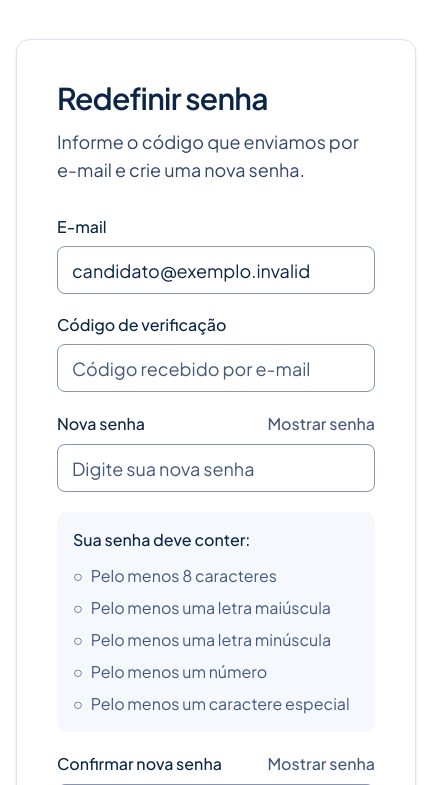
Test case: ResetPasswordPage › sends the address, the code and the new password
This screenshot has width=433, height=785.
In the field labelled "Código de verificação": (216, 368) [57,344,375,392], type "123456"
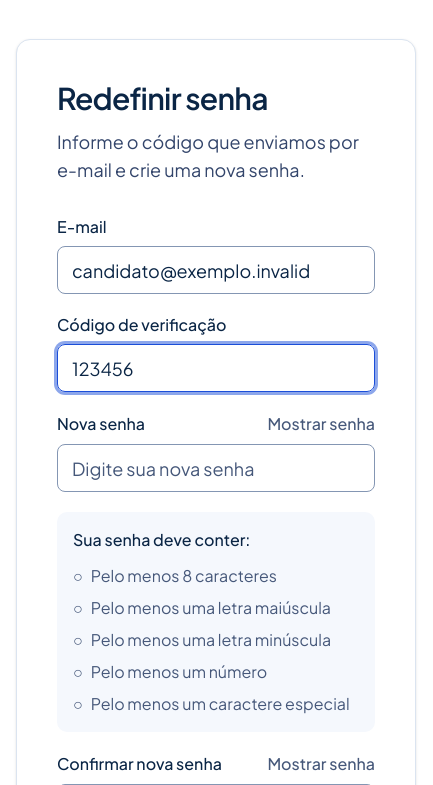
In the password field labelled "Nova senha": (216, 468) [57,444,375,492], type "NovaSenha!42"
(page scrolled)
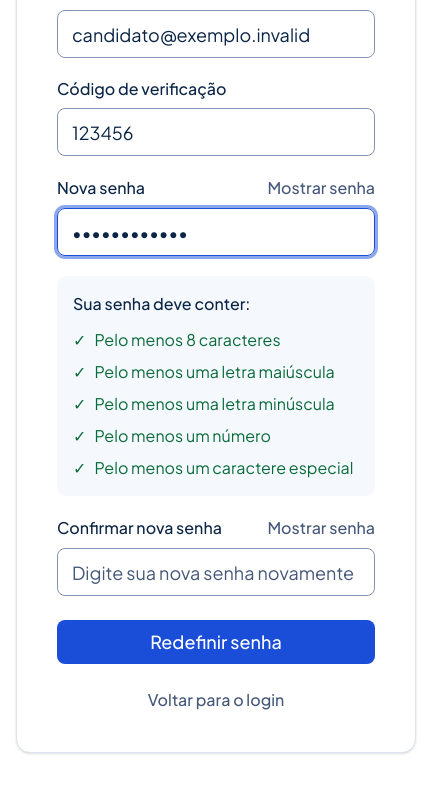
In the password field labelled "Confirmar nova senha": (216, 572) [57,548,375,596], type "NovaSenha!42"
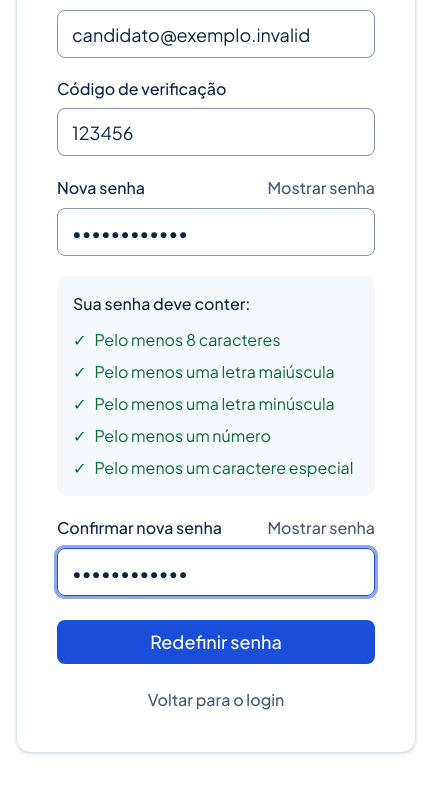
Click the button "Redefinir senha": click(216, 642) [57,620,375,664]
(page scrolled)
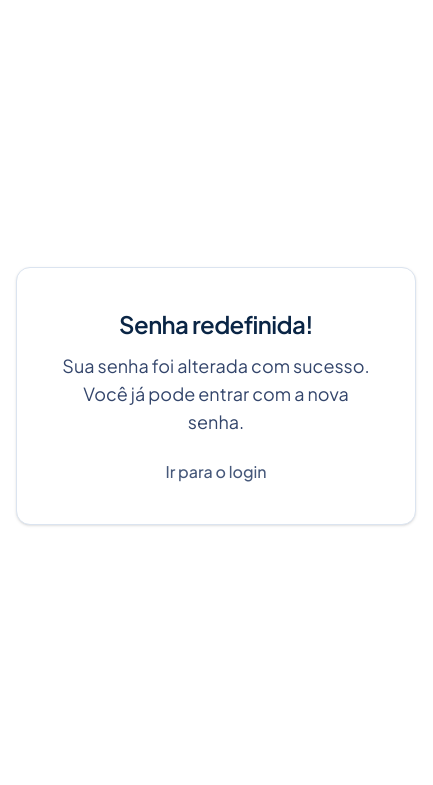
Expected: the heading "Senha redefinida!" is shown, [119,309,313,339]
